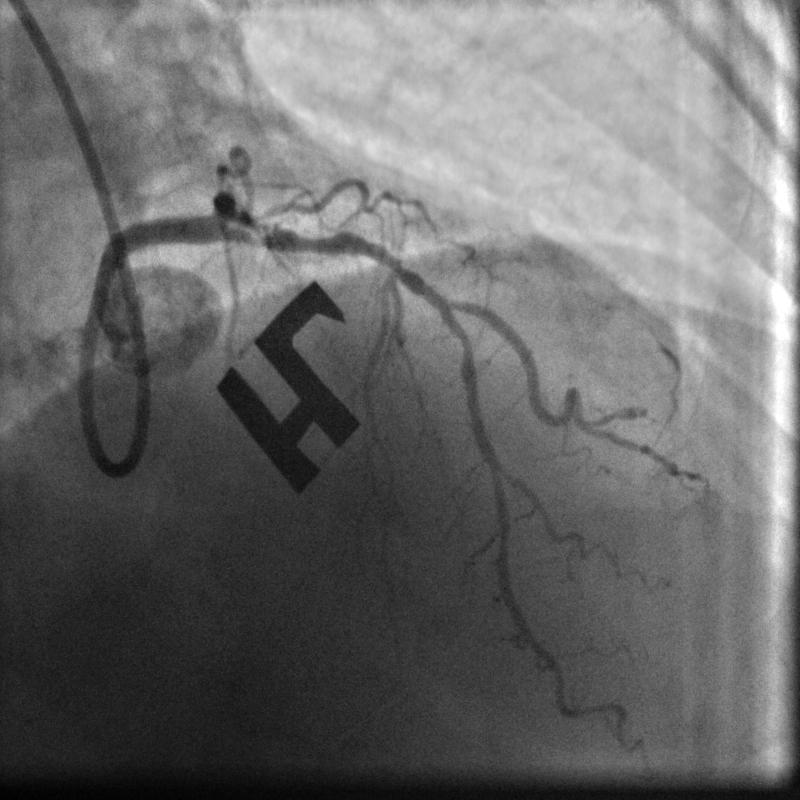Stenosis: (250, 216, 358, 255)
